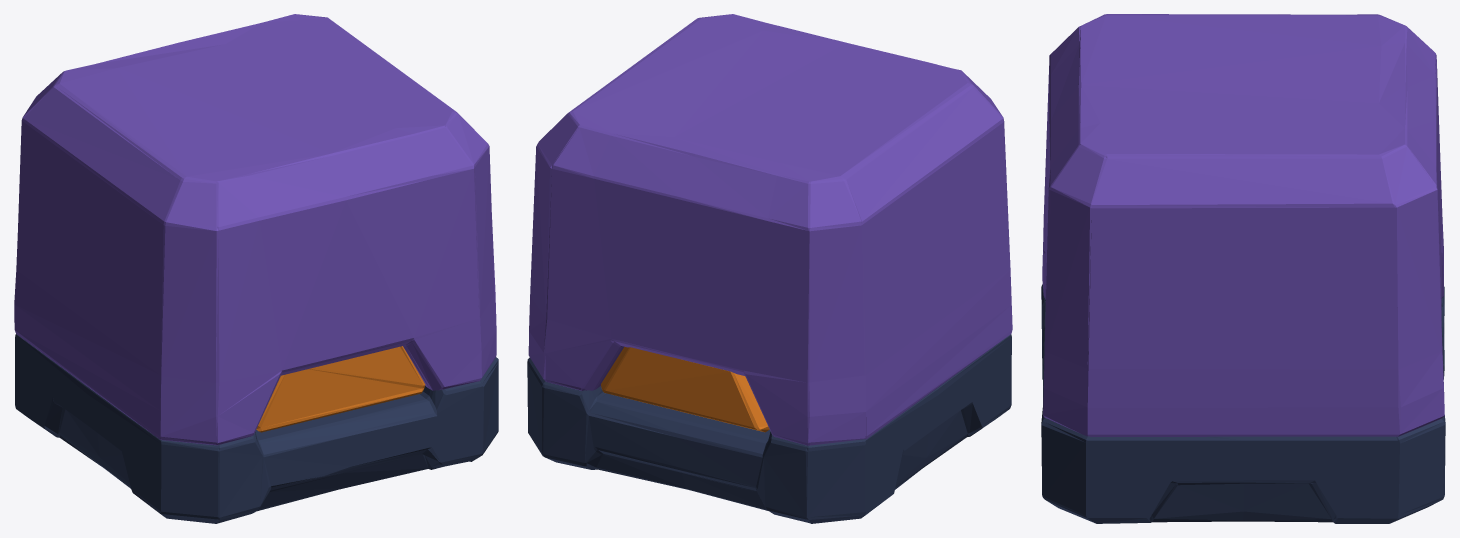
Rendered from blocks.fbx.
The picture shows the model from 3 angles, left to right: view 1: azimuth 30°, elevation 25°; view 2: azimuth 150°, elevation 25°; view 3: azimuth 270°, elevation 25°; orthographic projection. The views are drawn at different scales.
Visible parts, largest first — view 1: mesh_node.001, mesh_node, mesh_node.003; view 2: mesh_node.001, mesh_node, mesh_node.003; view 3: mesh_node.001, mesh_node.
Part boxes in pixels (x1,y1,x2,y2): mesh_node.001: (14, 14, 496, 445); mesh_node: (15, 334, 498, 523); mesh_node.003: (256, 346, 425, 432); mesh_node.001: (528, 14, 1012, 445); mesh_node: (527, 334, 1011, 523); mesh_node.003: (601, 346, 769, 432); mesh_node.001: (1042, 14, 1444, 436); mesh_node: (1041, 284, 1445, 523).
Size of the model in its own units: 100 by 94.51 by 97.07.
